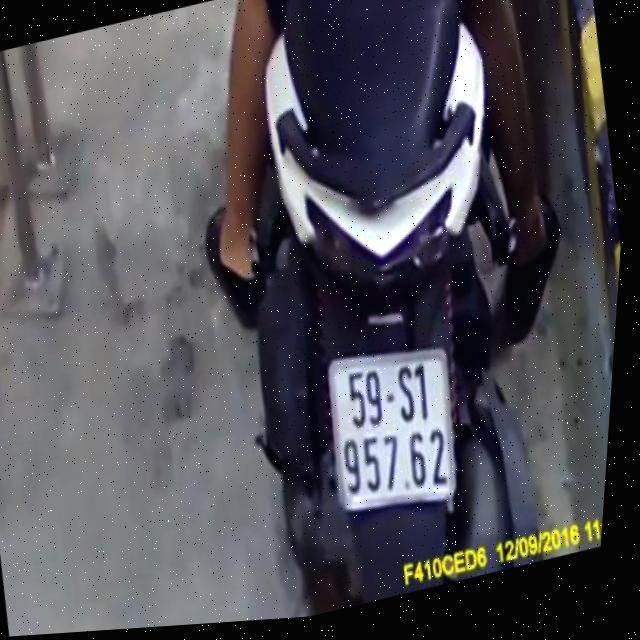motorcycle: (151, 0, 590, 627)
plate: (307, 325, 482, 535)
